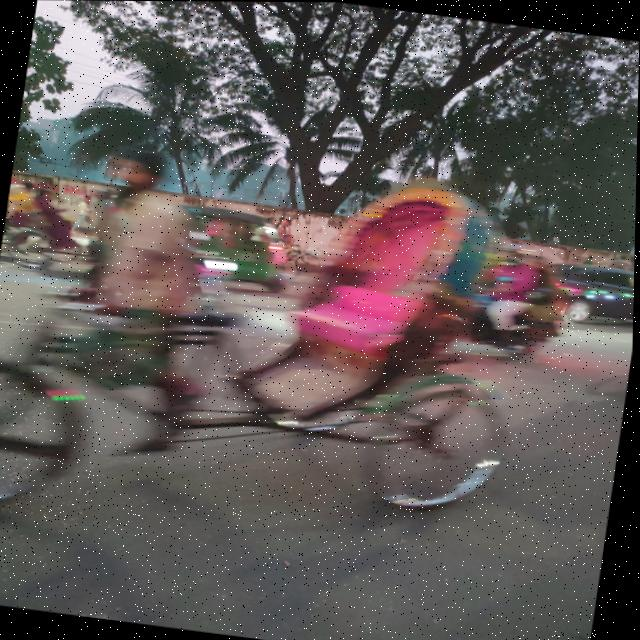rikshaw: (0, 122, 500, 612)
